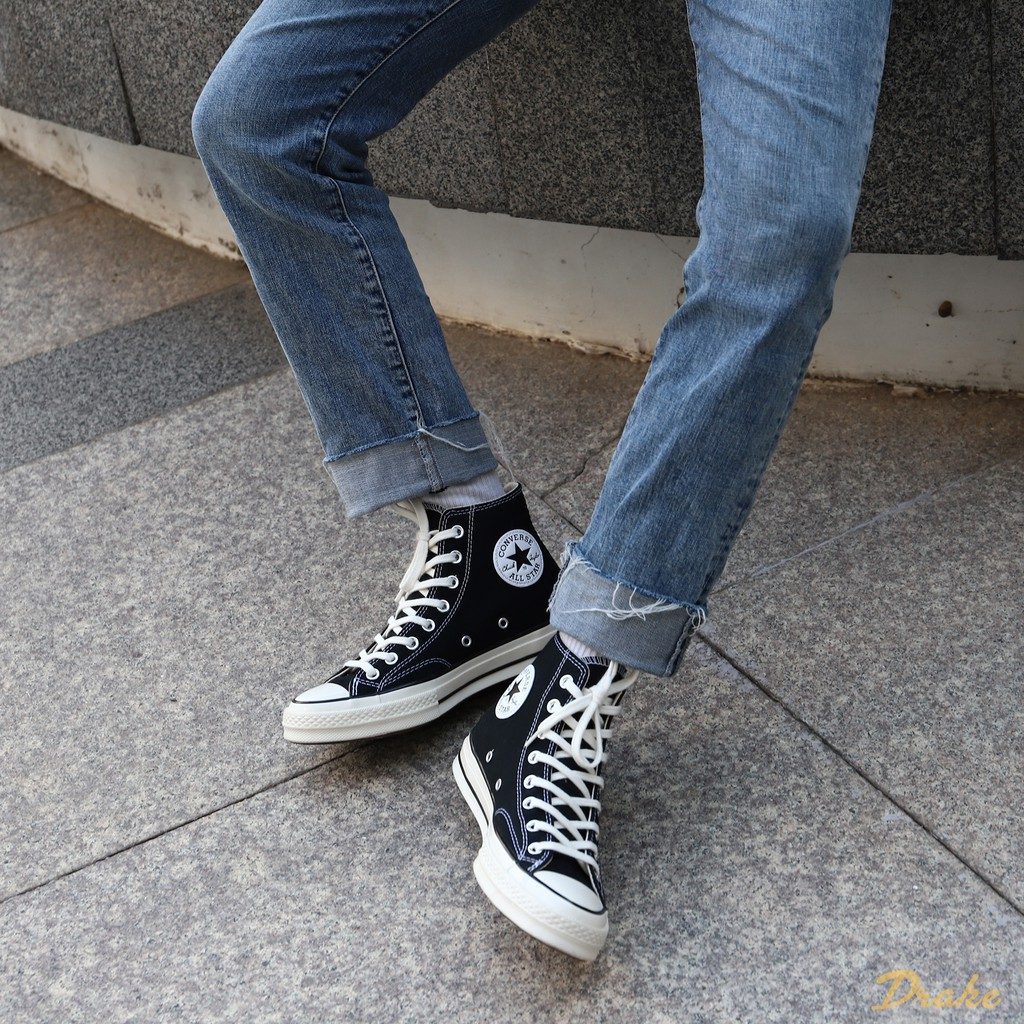sneakers: (280, 484, 560, 743), (447, 630, 636, 963)
